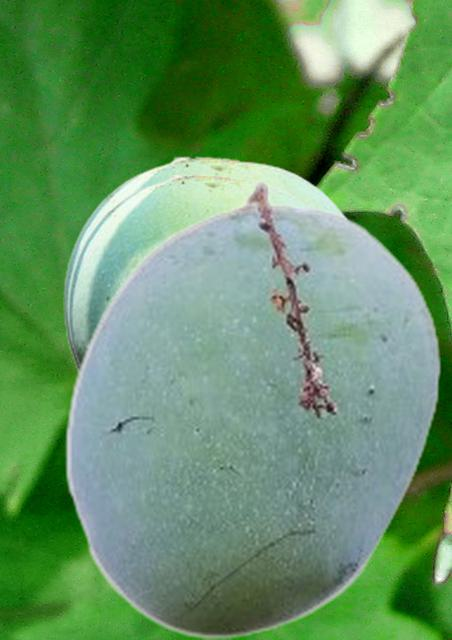green_mango: (64, 180, 441, 638), (63, 154, 350, 373), (68, 172, 312, 369)
